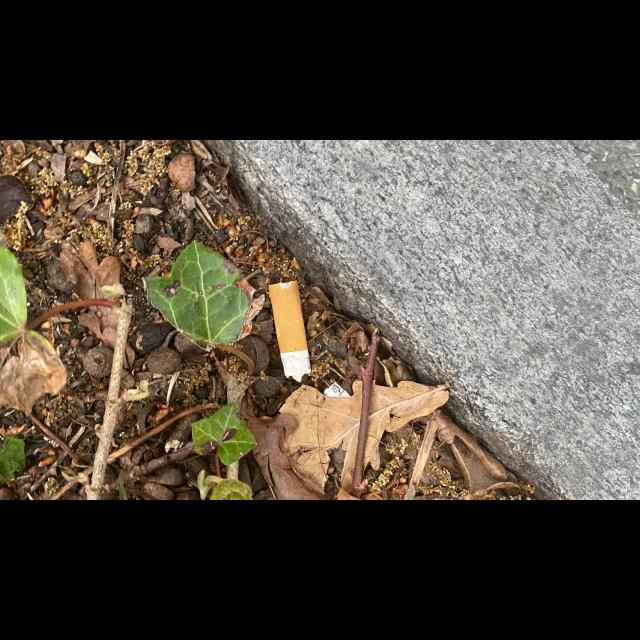cigarette: (267, 280, 312, 382)
